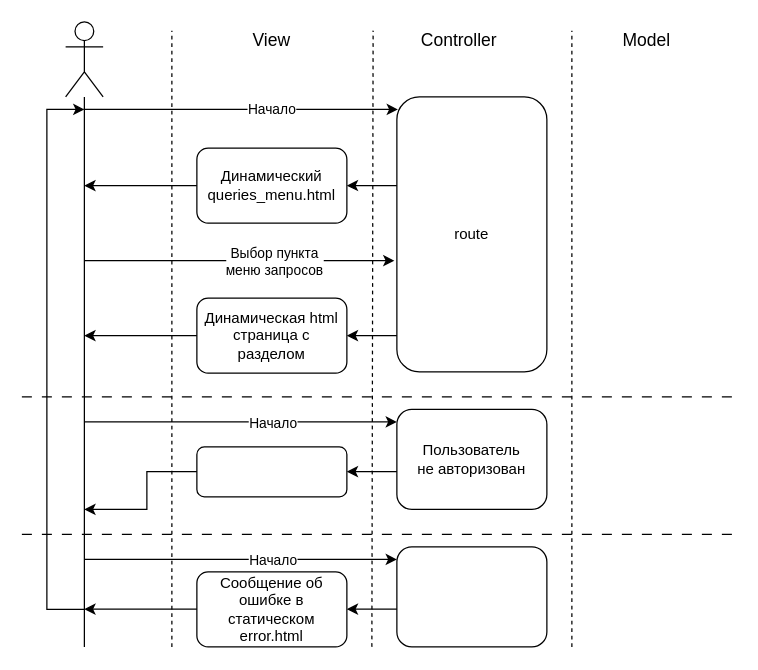
This 758x670 diagram has some shape labels left out. Each missing label, with the box of its shape:
Переход на контроллер auth: (196, 446, 347, 497)
У пользователя недостаточно прав: (396, 546, 547, 647)
